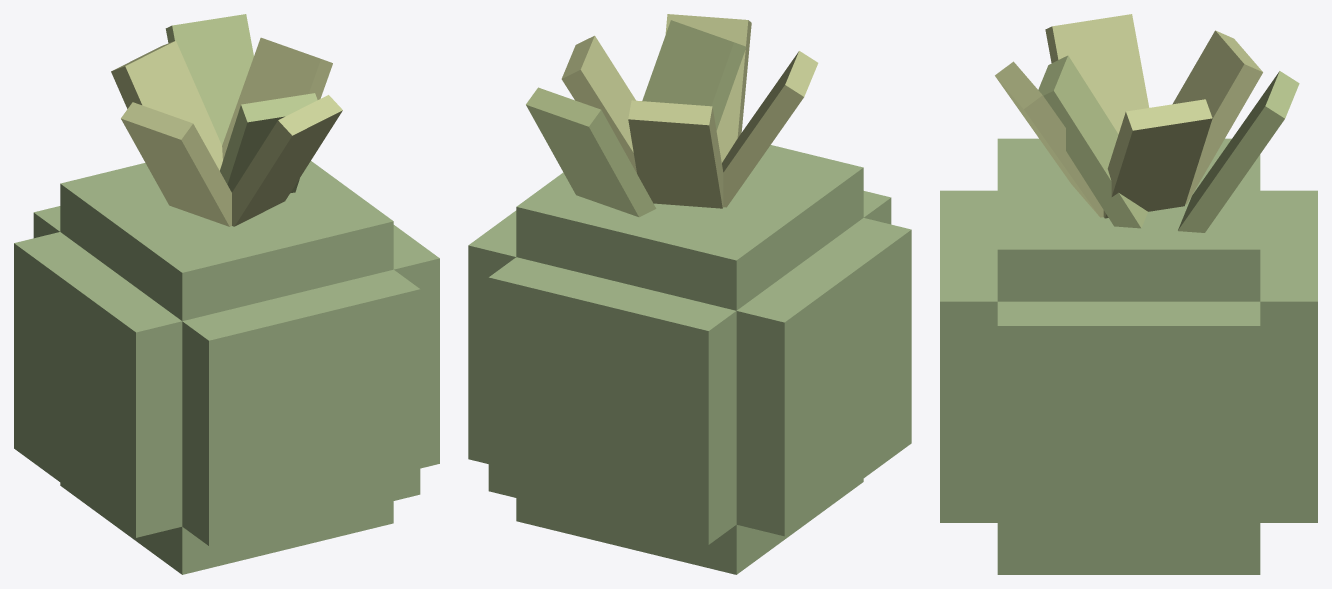
File: Bush_Square.glb
3 views of the same model, side by side, from view 1: azimuth 30°, elevation 25°; view 2: azimuth 150°, elevation 25°; view 3: azimuth 270°, elevation 25° (orthographic). The views are drawn at different scales.
Visible parts, largest first — view 1: geometry_0; view 2: geometry_0; view 3: geometry_0.
Boxes of the visible parts, left/top/right/bottom form: geometry_0: left=14, top=14, right=439, bottom=574; geometry_0: left=468, top=14, right=911, bottom=574; geometry_0: left=940, top=14, right=1317, bottom=574.
Bounding box in the file's own units: 0.8 × 1.07 × 0.8.
